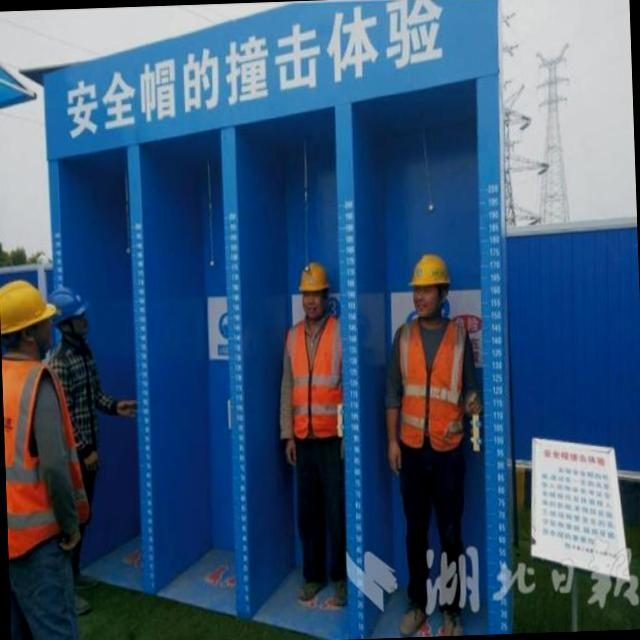helmet: (0, 278, 63, 353), (402, 251, 455, 294), (292, 260, 332, 298)
no-goggles: (298, 288, 326, 308), (409, 285, 445, 300)
vest: (1, 352, 95, 563), (386, 321, 472, 462), (282, 306, 344, 454)
